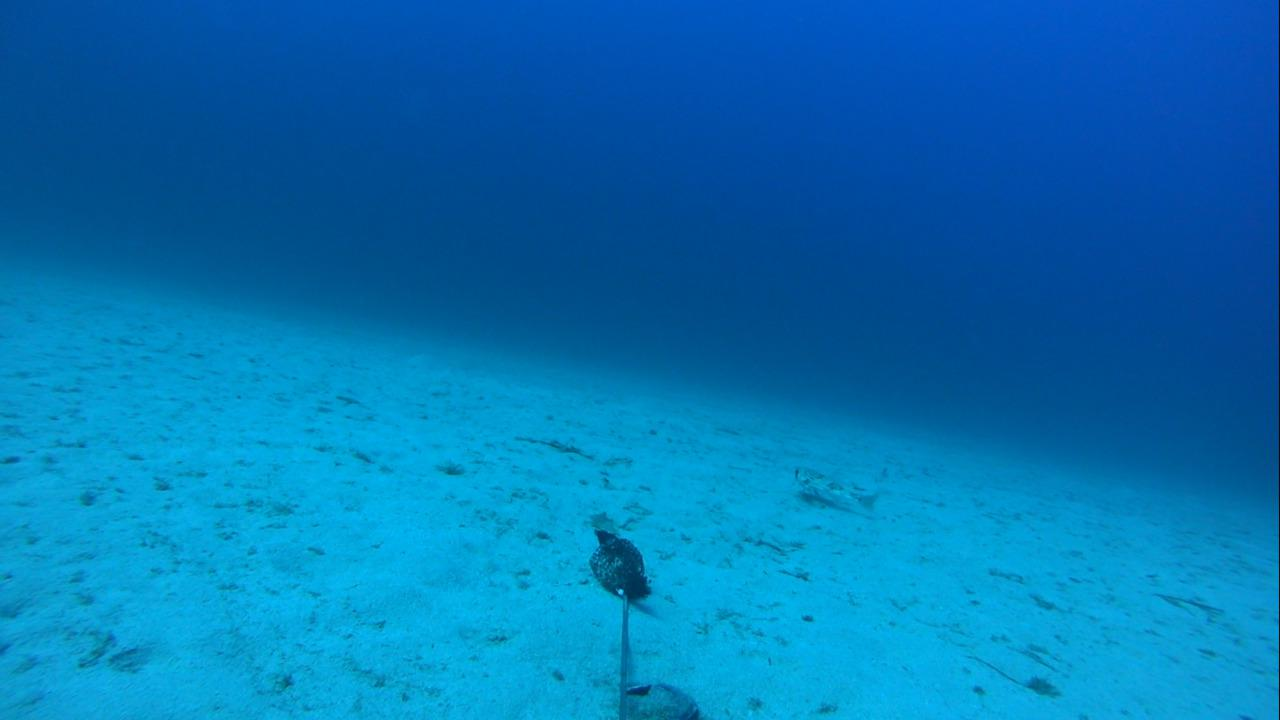dactylopterus: (775, 460, 882, 517)
